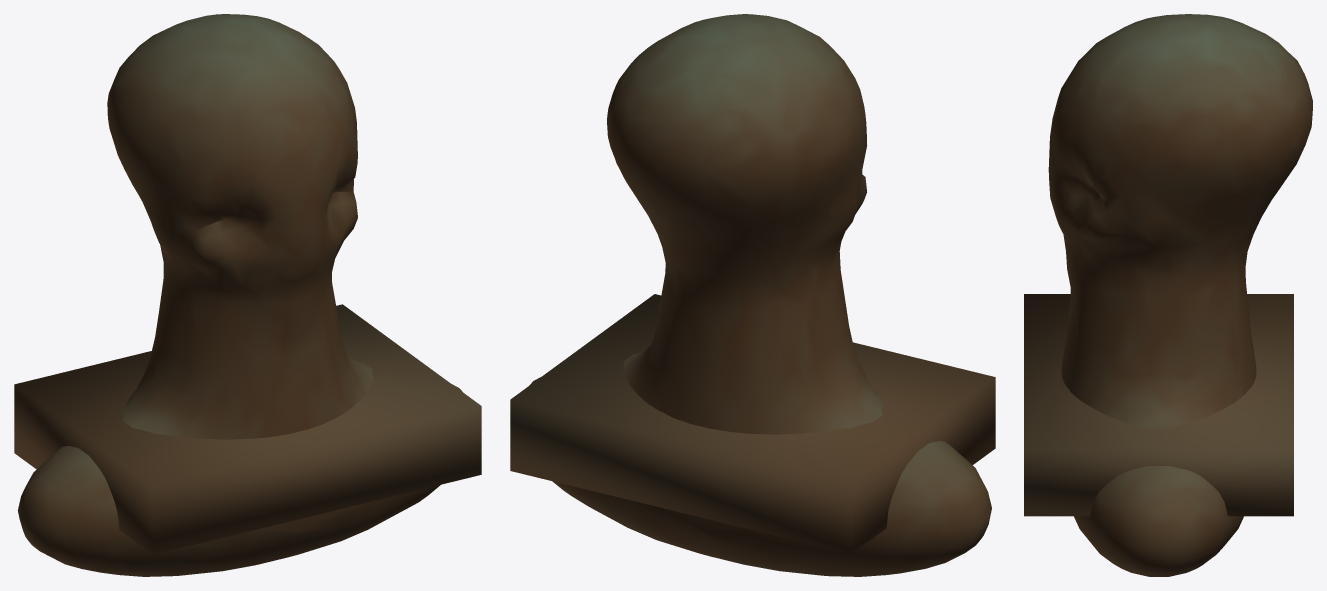
Rendered from bust1.glb.
The picture shows the model from 3 angles, left to right: view 1: azimuth 30°, elevation 25°; view 2: azimuth 150°, elevation 25°; view 3: azimuth 270°, elevation 25°; orthographic projection. The views are drawn at different scales.
Parts seen in each view (by area): view 1: bv_m; view 2: bv_m; view 3: bv_m.
Part boxes in pixels (left/top/right/bottom): bv_m: left=14, top=14, right=481, bottom=576; bv_m: left=510, top=14, right=995, bottom=576; bv_m: left=1024, top=14, right=1312, bottom=576.
Bounding box in the file's own units: 0.9111 × 1 × 0.5258.
